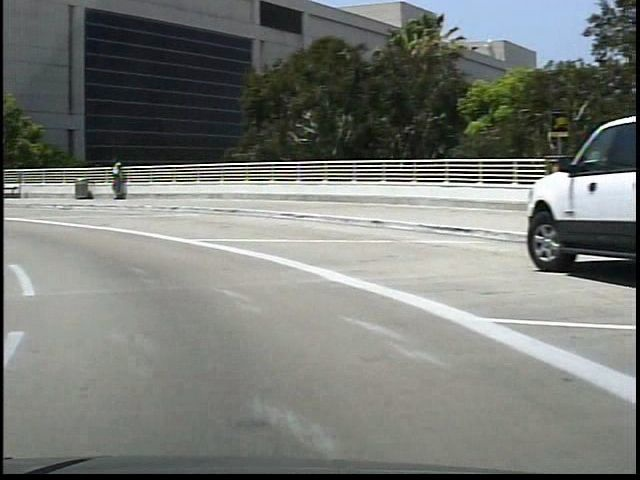person: (104, 154, 123, 202)
